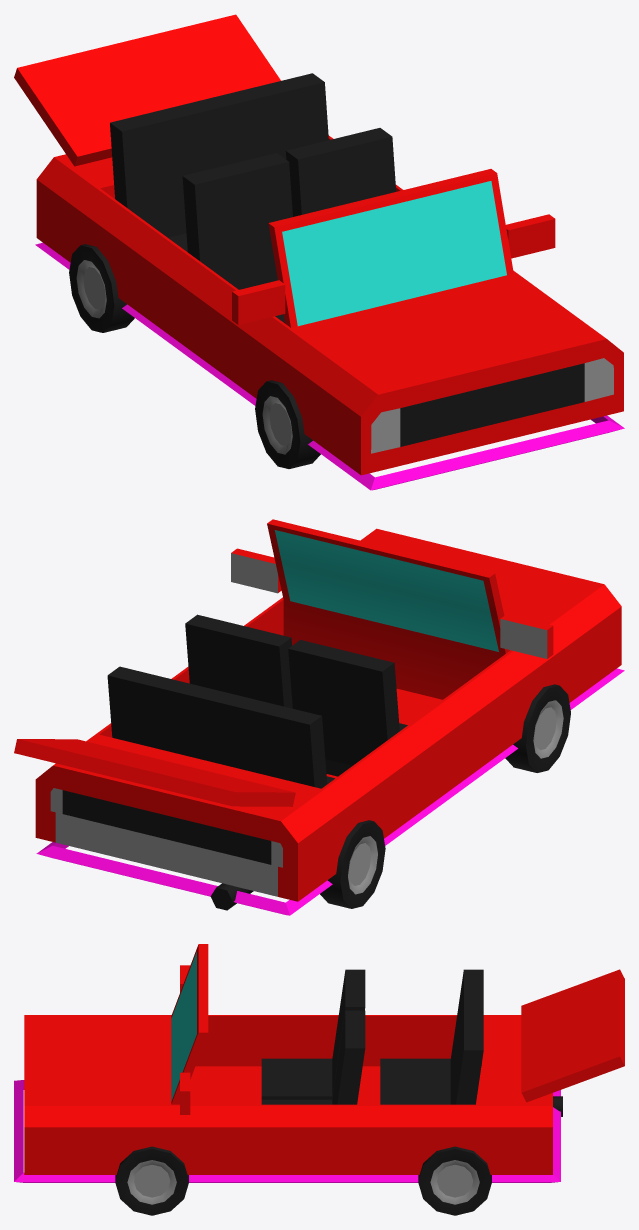
The model's file is M_Vehicle_CarD.FBX.
The picture shows the model from 3 angles, top to bottom: view 1: azimuth 30°, elevation 25°; view 2: azimuth 150°, elevation 25°; view 3: azimuth 270°, elevation 25°; orthographic projection. The views are drawn at different scales.
Visible parts, largest first — view 1: Vehicle_Car_D; view 2: Vehicle_Car_D; view 3: Vehicle_Car_D.
Part boxes in pixels (x1,y1,x2,y2): Vehicle_Car_D: (14, 14, 624, 490); Vehicle_Car_D: (14, 519, 624, 915); Vehicle_Car_D: (14, 944, 624, 1215).
Size of the model in its own units: 259 by 166 by 531.
